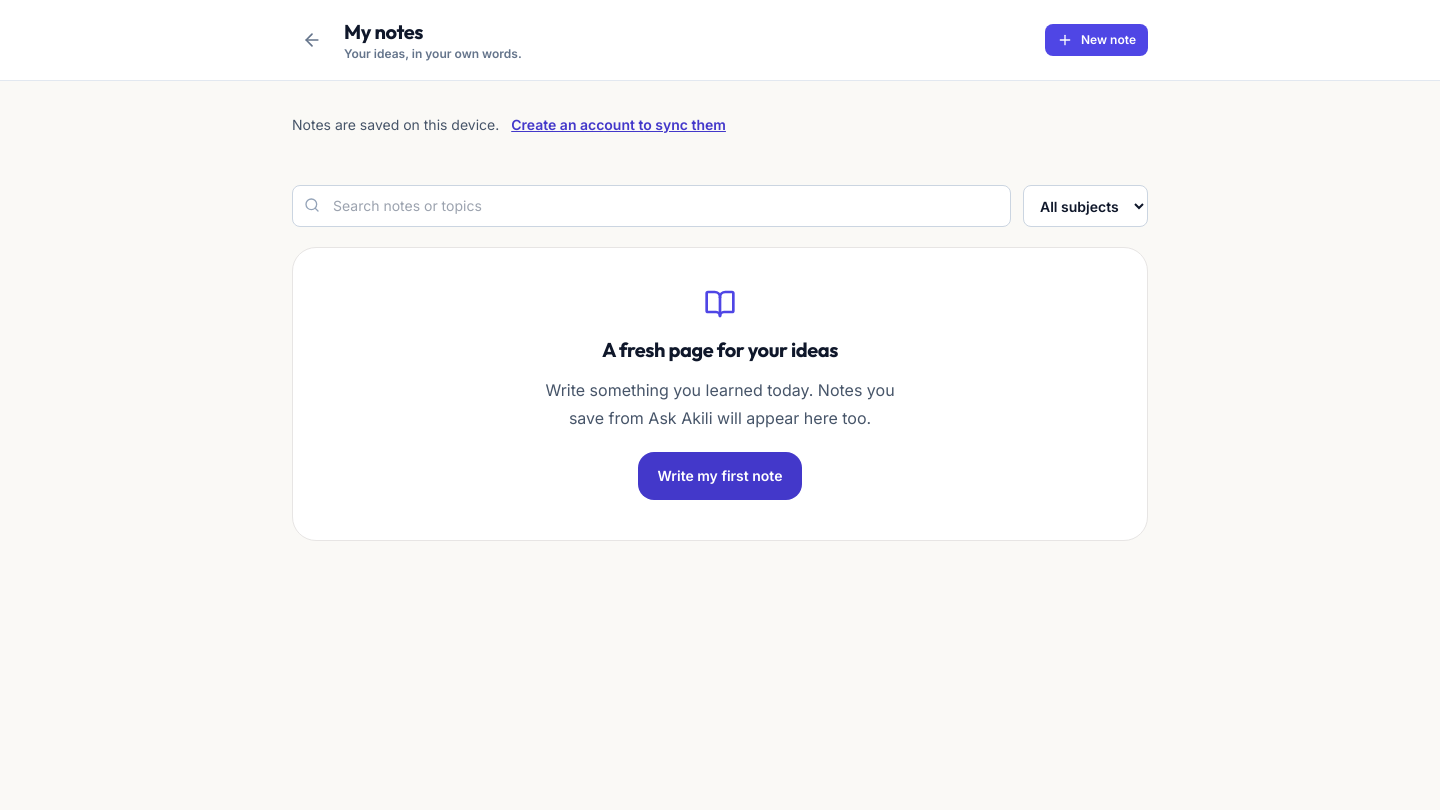
Learner notebook › offers a clear first-note action and focuses the editor
What coordinates should you click on to do the following:
click the button "Write my first note"
I would click on:
 (720, 476)
Its box is [638,452,802,500].
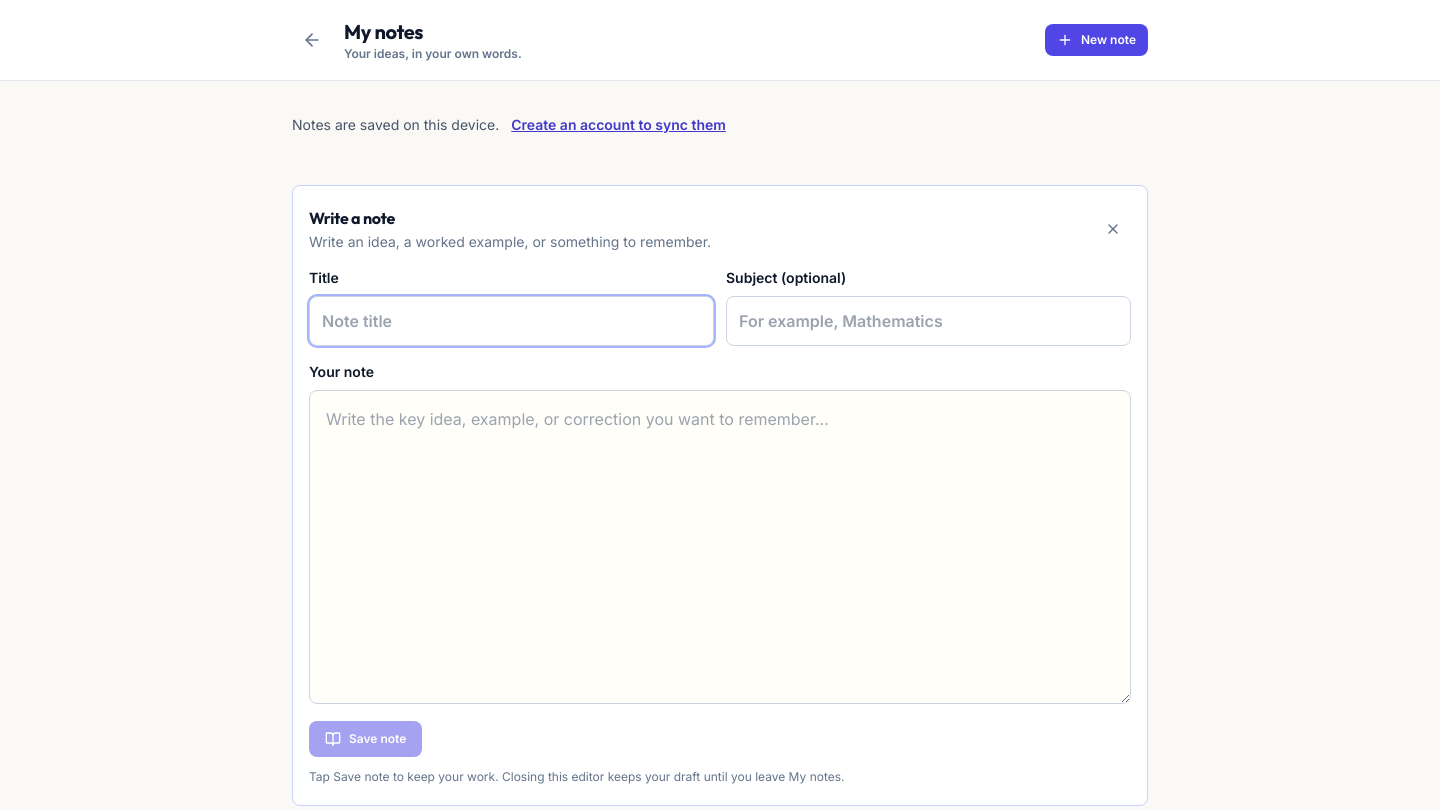
expect the button "Save note" is disabled: met, box [309,721,422,757]
